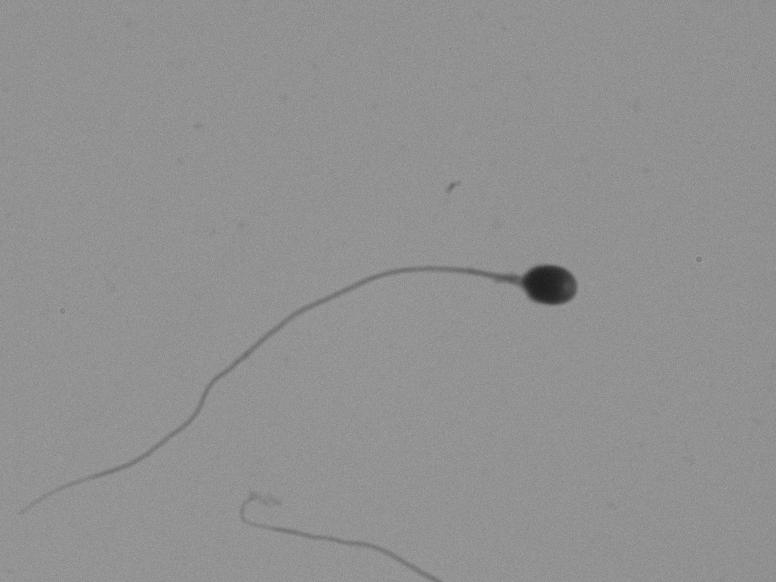Normal: (51, 196, 601, 512)
